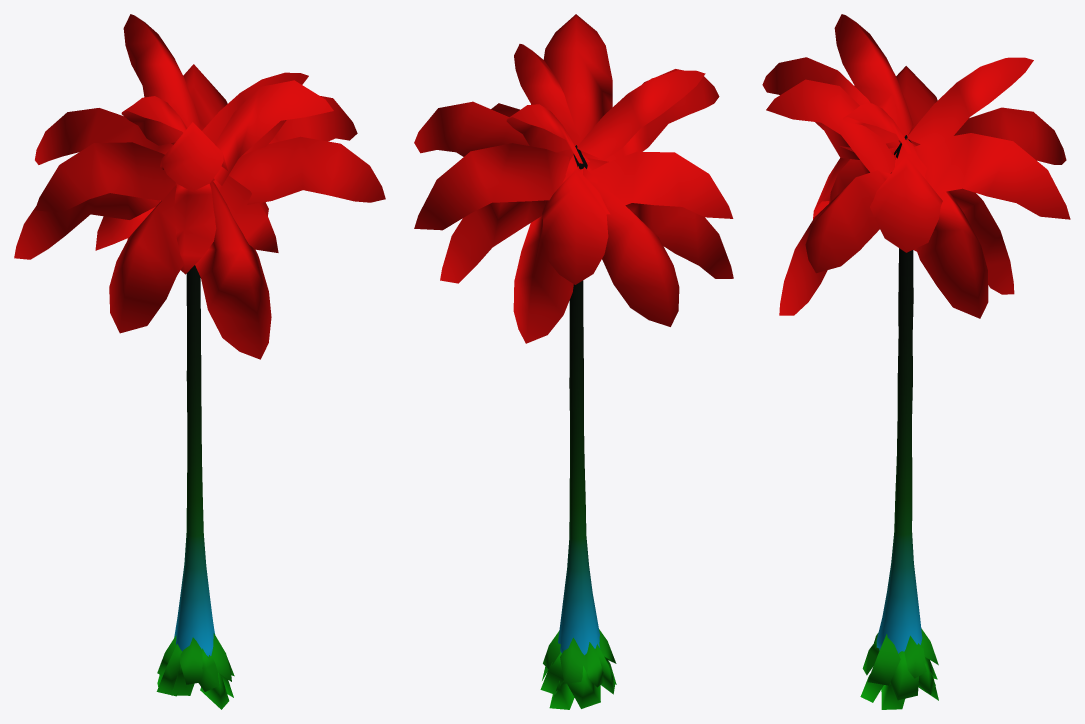
The model's file is Coconut4.fbx.
The picture shows the model from 3 angles, left to right: view 1: azimuth 30°, elevation 25°; view 2: azimuth 150°, elevation 25°; view 3: azimuth 270°, elevation 25°; orthographic projection.
Visible parts, largest first — view 1: Coconut4_LOD0; view 2: Coconut4_LOD0; view 3: Coconut4_LOD0.
Boxes of the visible parts, x1,y1,x2,y2 form: Coconut4_LOD0: [14, 14, 385, 709]; Coconut4_LOD0: [414, 14, 733, 709]; Coconut4_LOD0: [762, 14, 1070, 709].
Size of what is drawn, in the model's own units: 756 by 1433 by 624.
